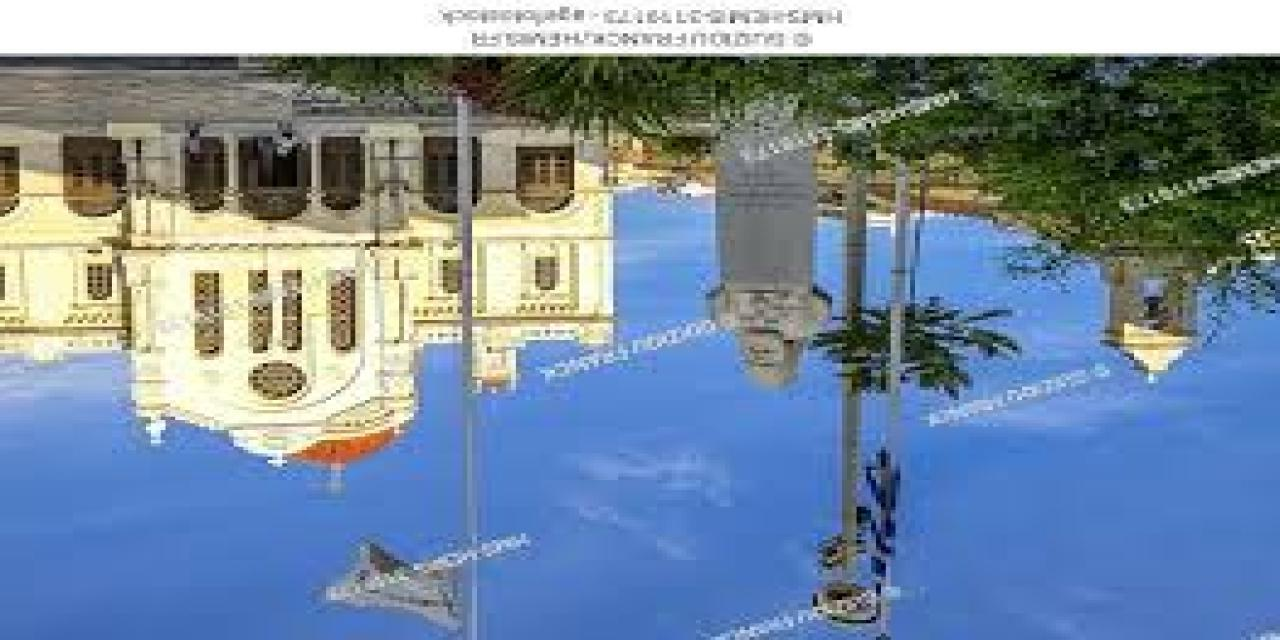Agios Minas: (1, 117, 624, 488)
